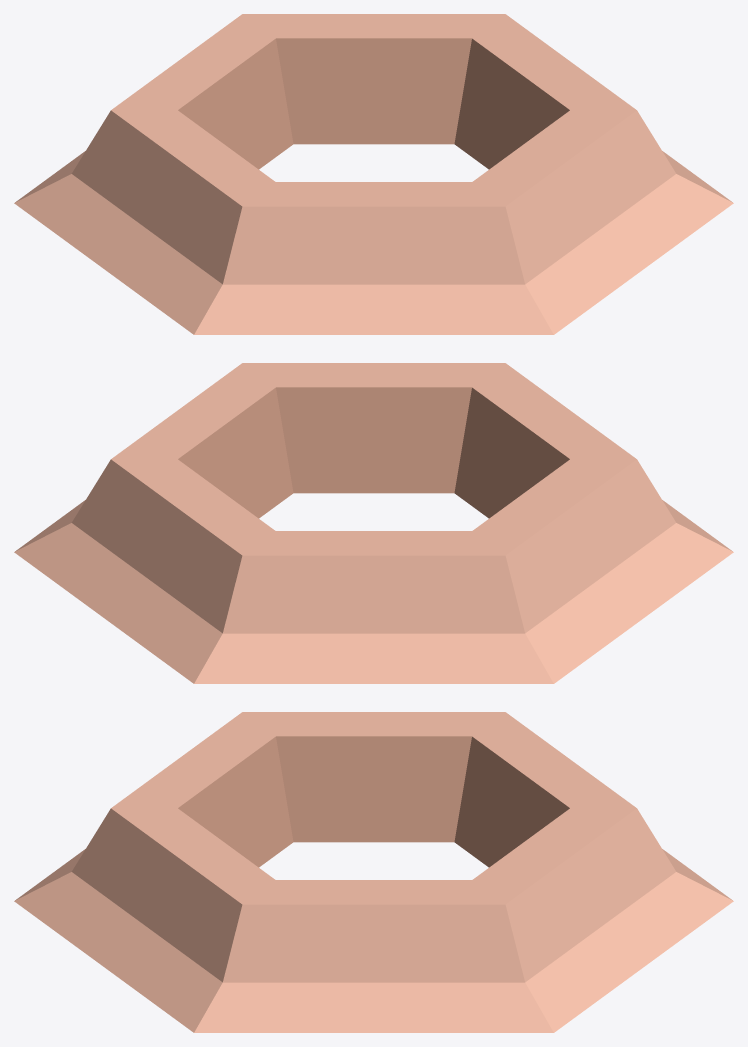
The model's file is crater.glb.
The picture shows the model from 3 angles, top to bottom: view 1: azimuth 30°, elevation 25°; view 2: azimuth 150°, elevation 25°; view 3: azimuth 270°, elevation 25°; orthographic projection.
Parts seen in each view (by area): view 1: crater; view 2: crater; view 3: crater.
Boxes of the visible parts, left/top/right/bottom form: crater: left=14, top=14, right=733, bottom=334; crater: left=14, top=363, right=733, bottom=683; crater: left=14, top=712, right=733, bottom=1032.
Bounding box in the file's own units: 0.715 × 0.1176 × 0.8256.
1 material, 1 textured.
